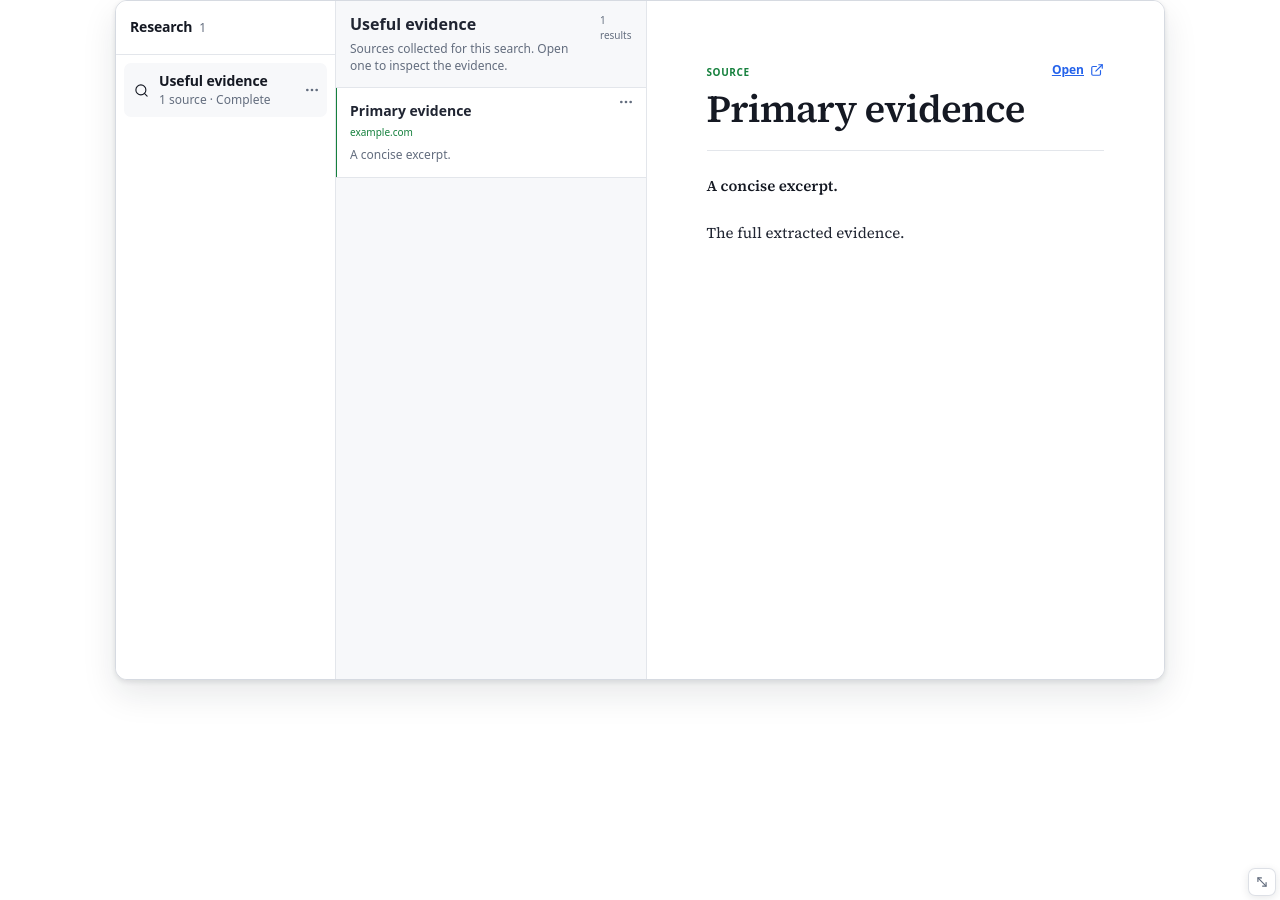
Test: ResearchWorkspace actions › deletes a saved search from its action menu
Click the button named "More options for saved search Useful evidence": (312, 90) [304,82,320,98]
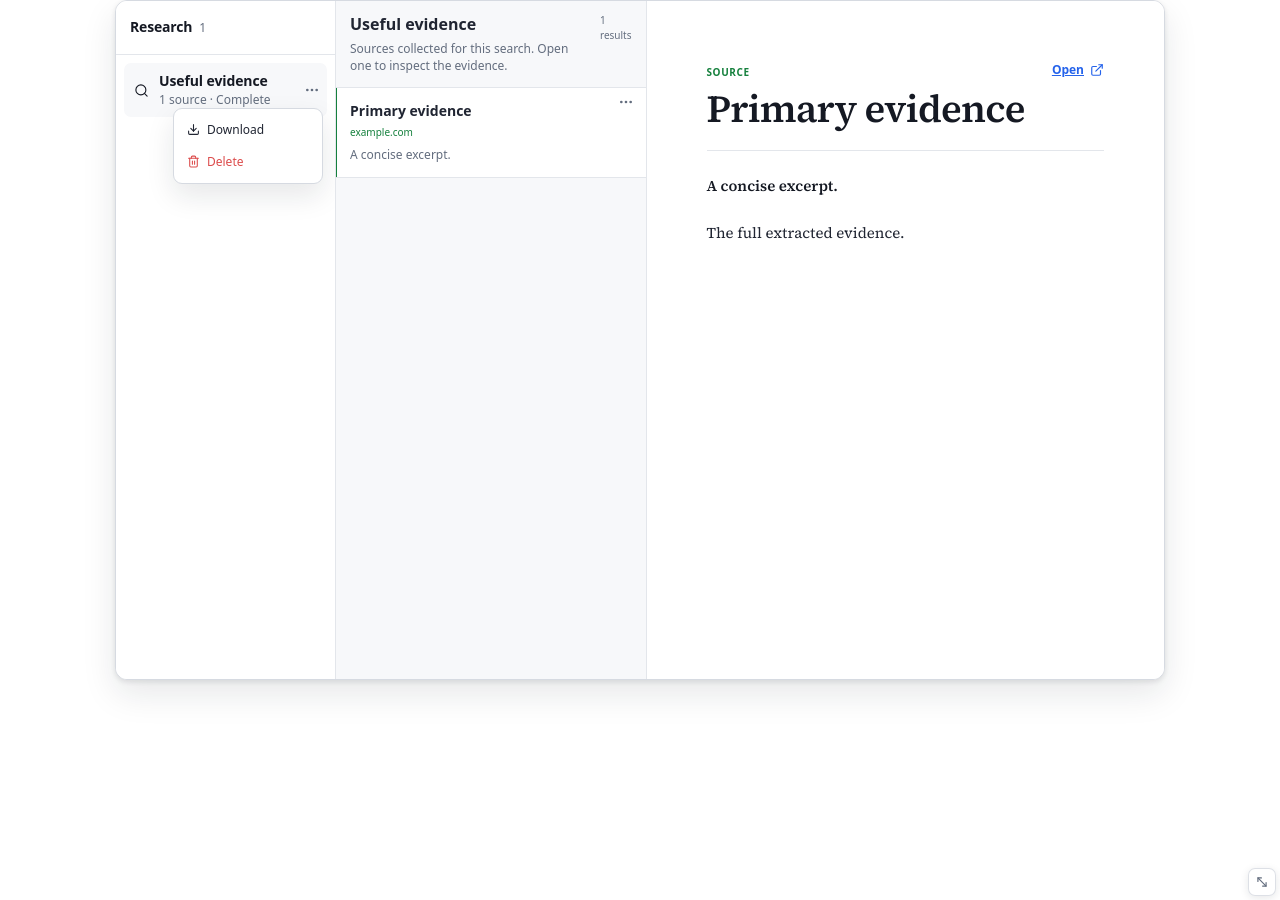
Click the button with aria-label "Delete saved search": (248, 162) [179,146,317,178]
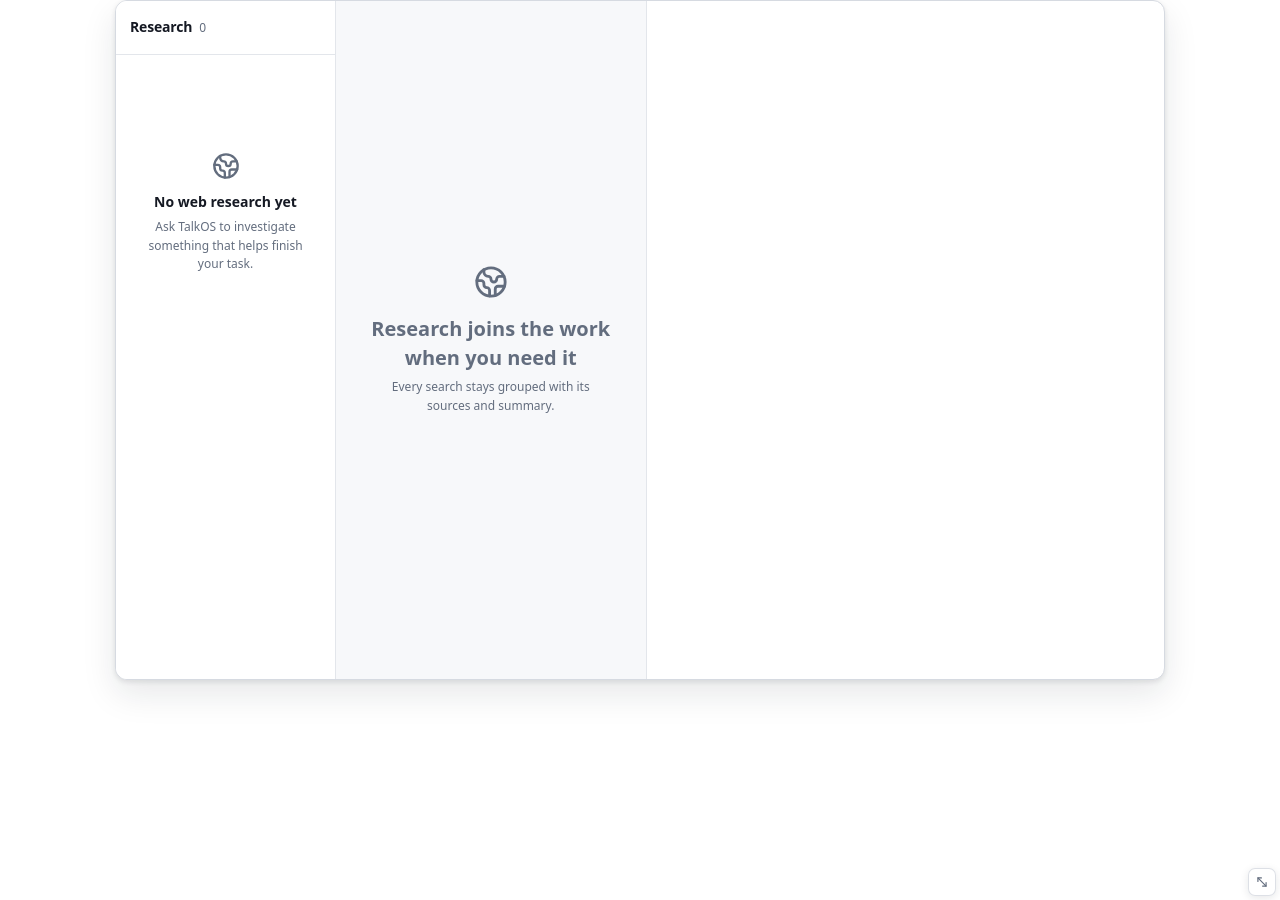
Now the text "No web research yet" is shown, box [154,192,297,212]
